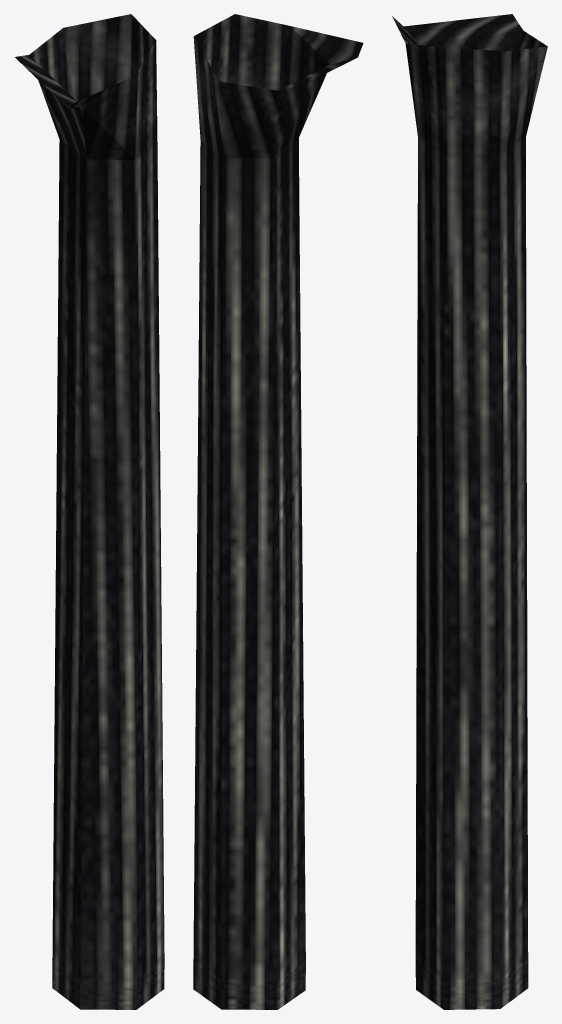
The model's file is Jack_pelvis_izq.obj.
3 renders of one model, left to right at view 1: azimuth 30°, elevation 25°; view 2: azimuth 150°, elevation 25°; view 3: azimuth 270°, elevation 25°, orthographic.
Parts seen in each view (by area): view 1: rdmobj01.009_rdmobj01.012; view 2: rdmobj01.009_rdmobj01.012; view 3: rdmobj01.009_rdmobj01.012.
Boxes of the visible parts, x1,y1,x2,y2 form: rdmobj01.009_rdmobj01.012: [15, 14, 164, 1009]; rdmobj01.009_rdmobj01.012: [193, 14, 363, 1009]; rdmobj01.009_rdmobj01.012: [392, 14, 547, 1009].
Bounding box in the file's own units: 0.0827 × 0.6509 × 0.0959.
1 material, 1 textured.
